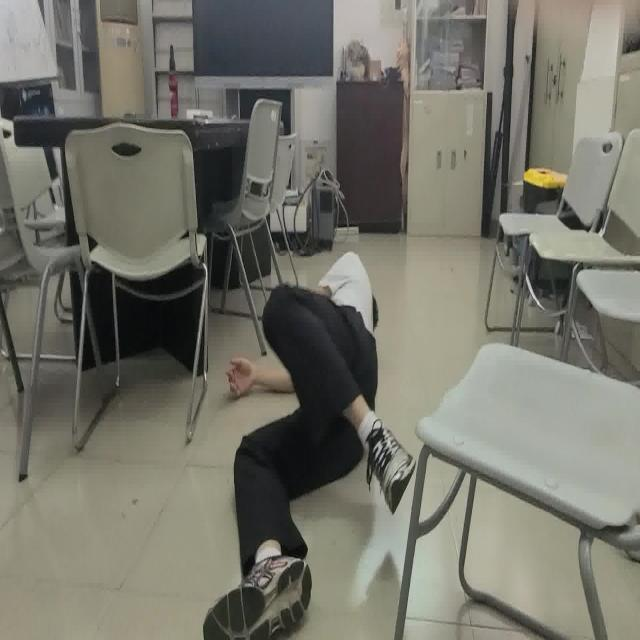fall: (202, 249, 418, 640)
